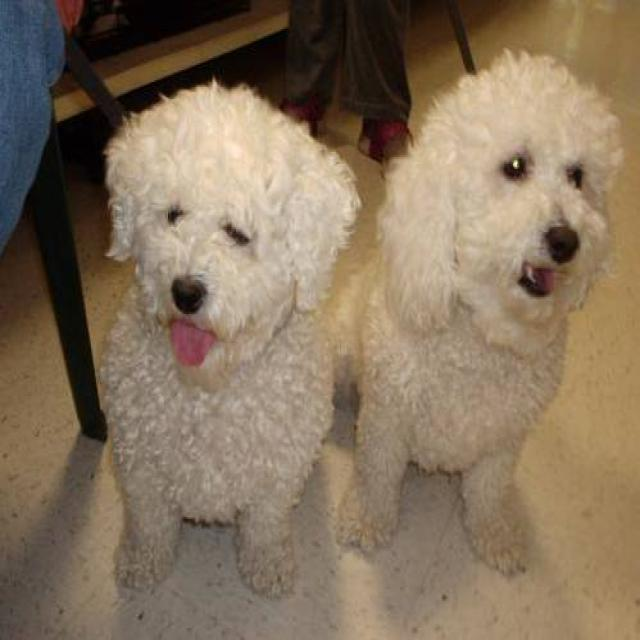dog: (321, 44, 626, 577), (97, 75, 363, 601)
